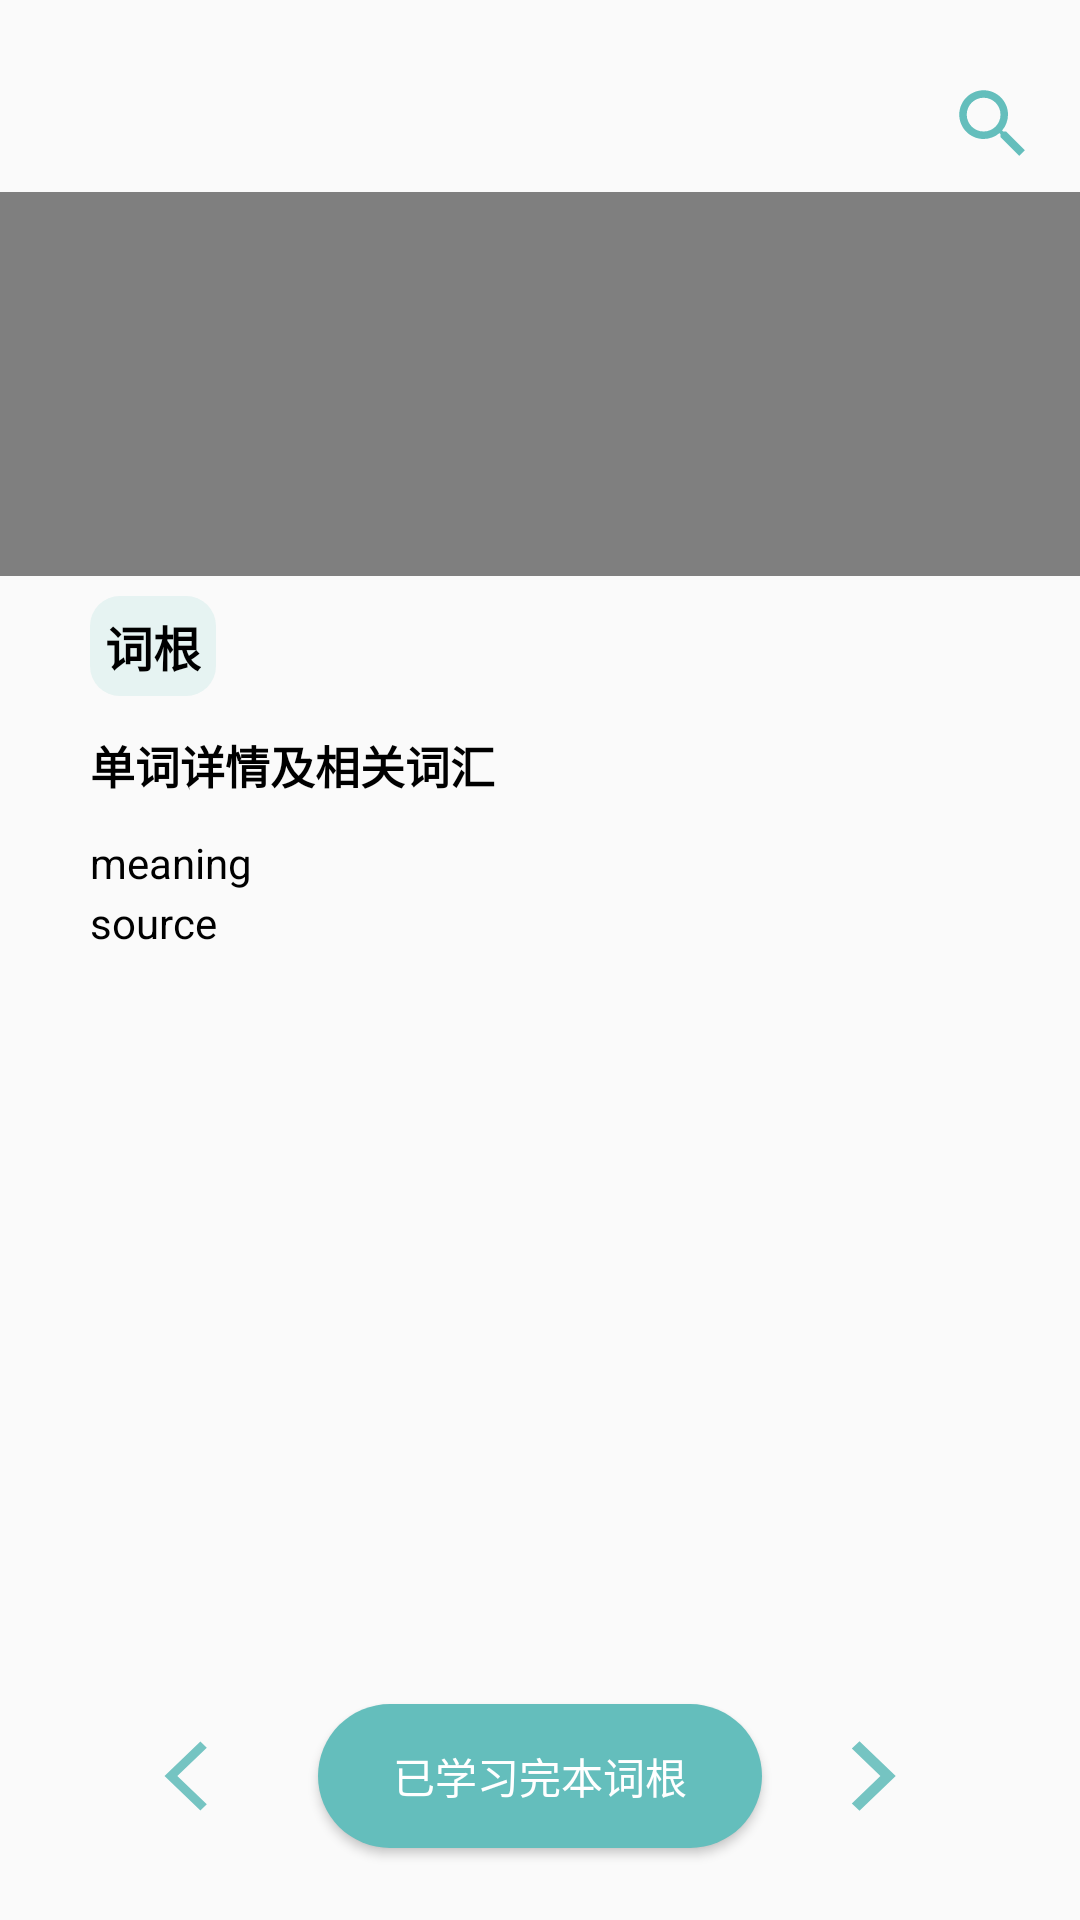

Point at icon controls on the screen. Image size 1080*1920, points as (x=x, y=y).
back: (x=186, y=1776)
next learn: (x=874, y=1776)
search: (x=992, y=123)
